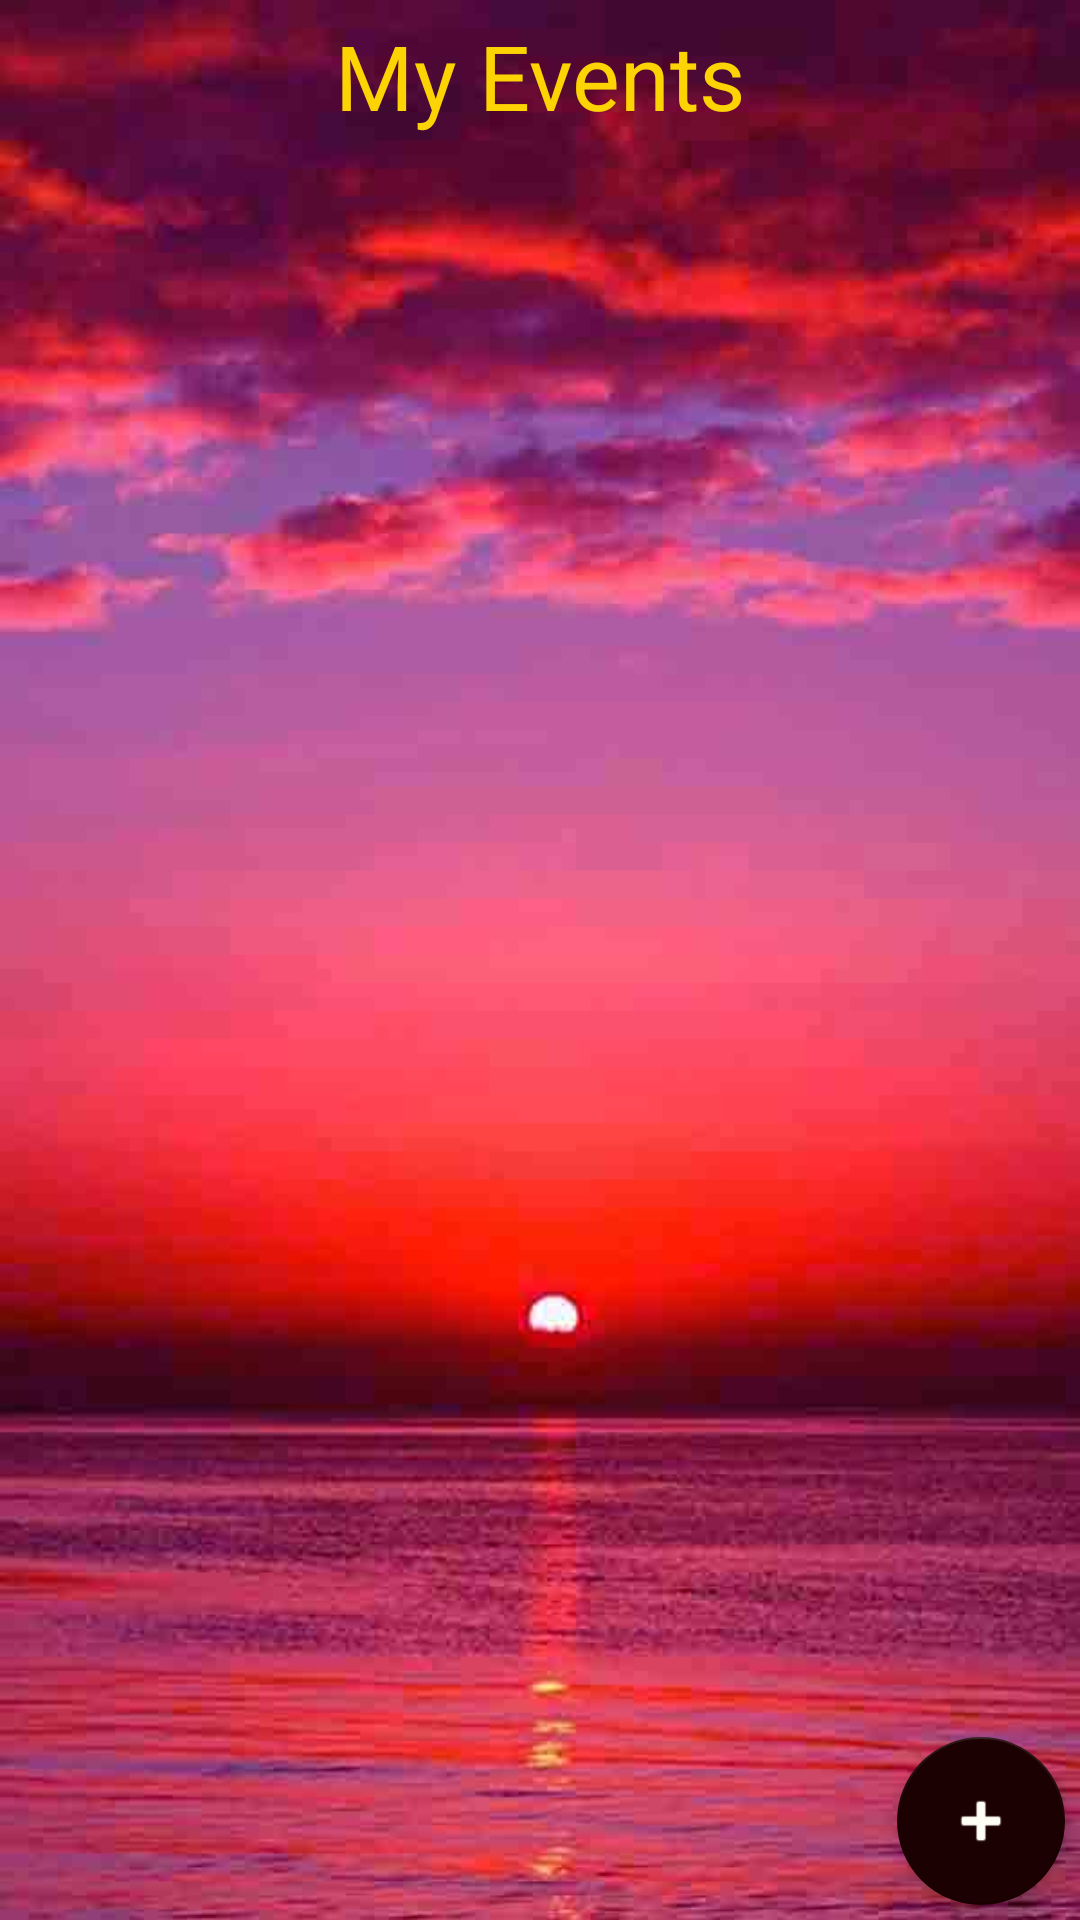

Named icons in this screenshot (1080*1920) and their centers, (x=x, y=y):
add: (x=981, y=1821)
